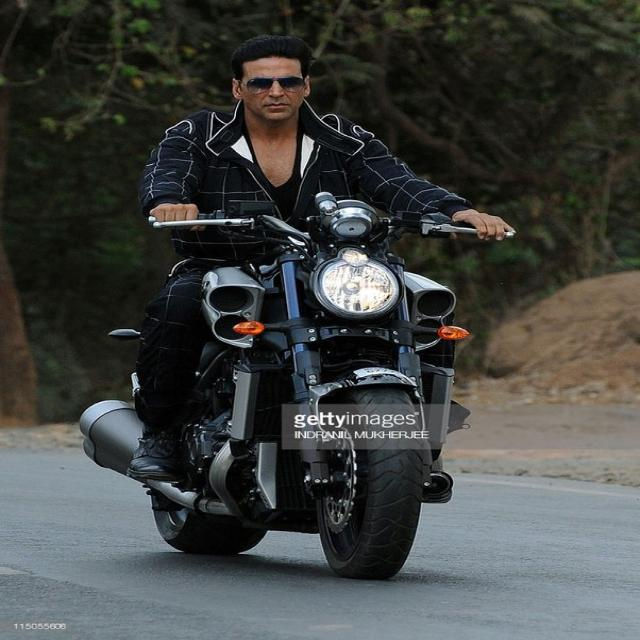without helmet: (224, 34, 330, 130)
